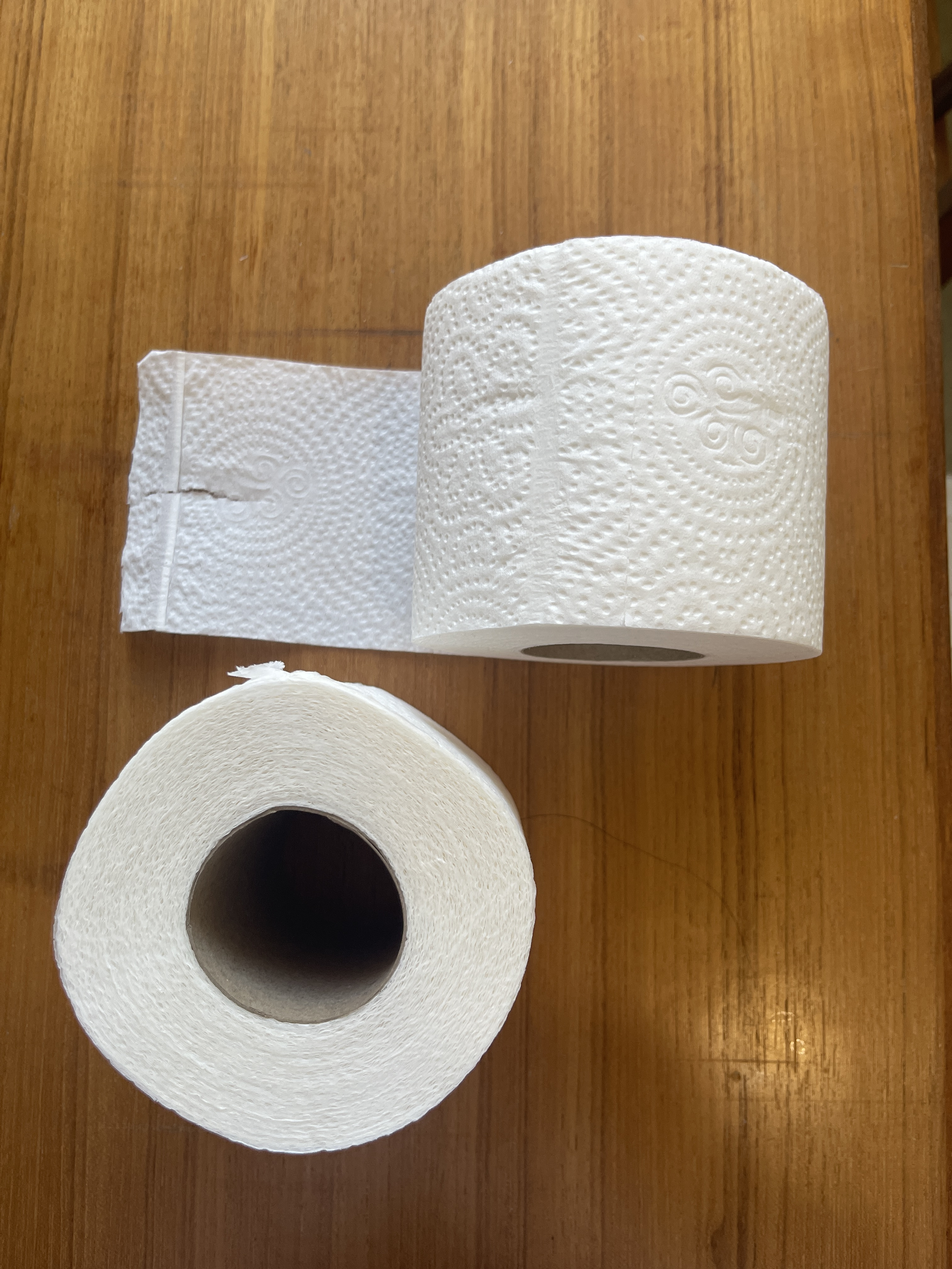paper: (115, 231, 834, 671), (48, 664, 541, 1158)
